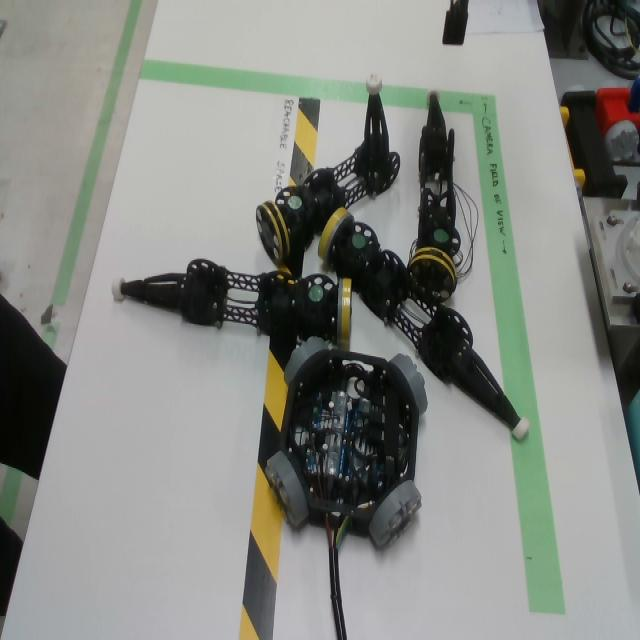body: (281, 349, 419, 536)
body_connector: (369, 480, 423, 549), (265, 451, 309, 532), (388, 353, 428, 416), (284, 336, 328, 385)
leg: (317, 208, 530, 441), (256, 73, 401, 265), (110, 259, 350, 351), (407, 84, 461, 305)
leg_connector: (408, 247, 457, 303), (255, 200, 290, 264), (318, 207, 355, 261), (337, 277, 352, 352)
leg_marker: (308, 285, 324, 303), (434, 228, 449, 243), (288, 196, 302, 209), (352, 235, 365, 249)
